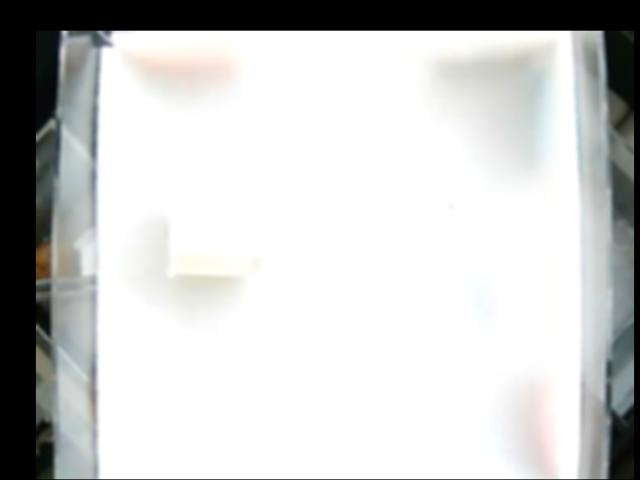Cup: (166, 175, 271, 281)
